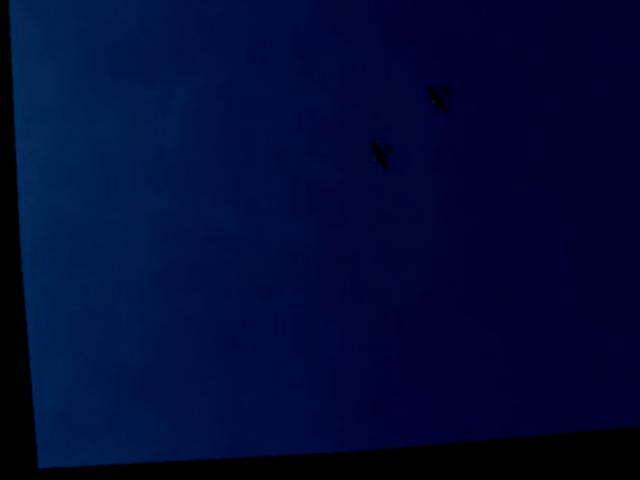uav: (366, 143, 390, 180), (422, 90, 449, 120)
